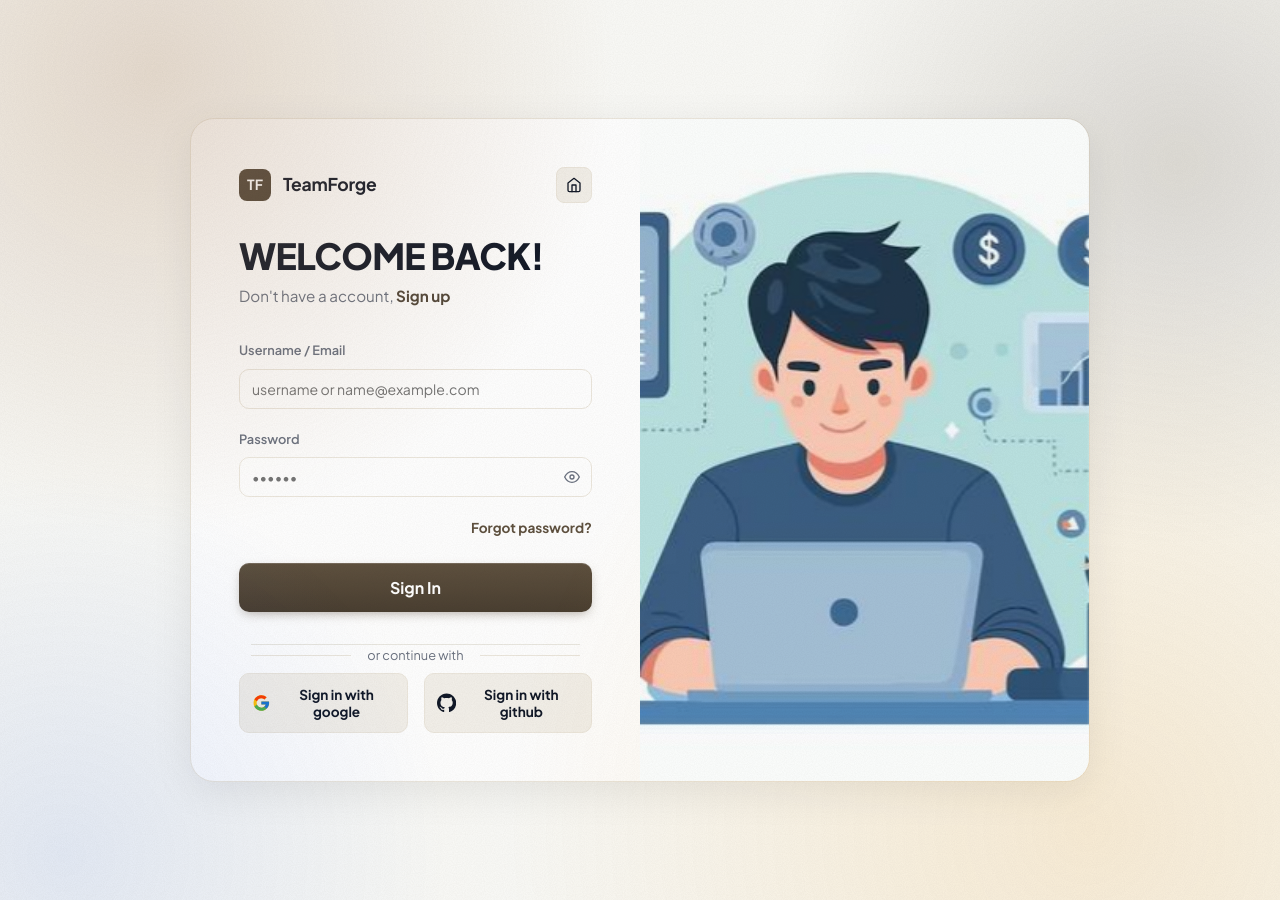
Test: STEP 3 FRONTEND: Suspended User Notification & Screen › 6. Wrong password or non-suspended error shows generic error, NOT suspended panel
Type "regular.user@teamforge.io" into the field with placeholder "username or name@example.com" at (416, 389), box 239,369 -> 592,409
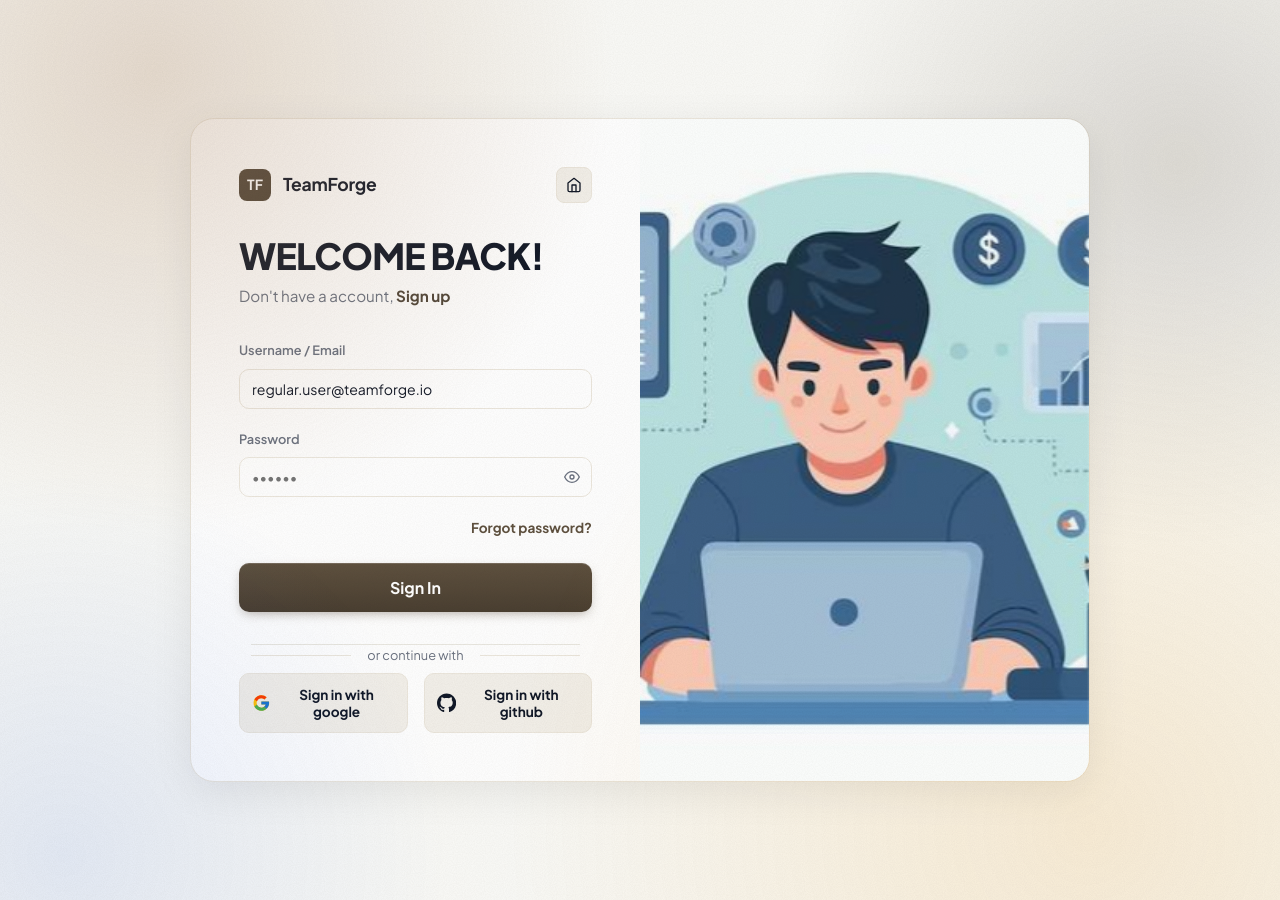
Type "wrongpassword" into the password field with placeholder "••••••" at (416, 477), box 239,457 -> 592,497
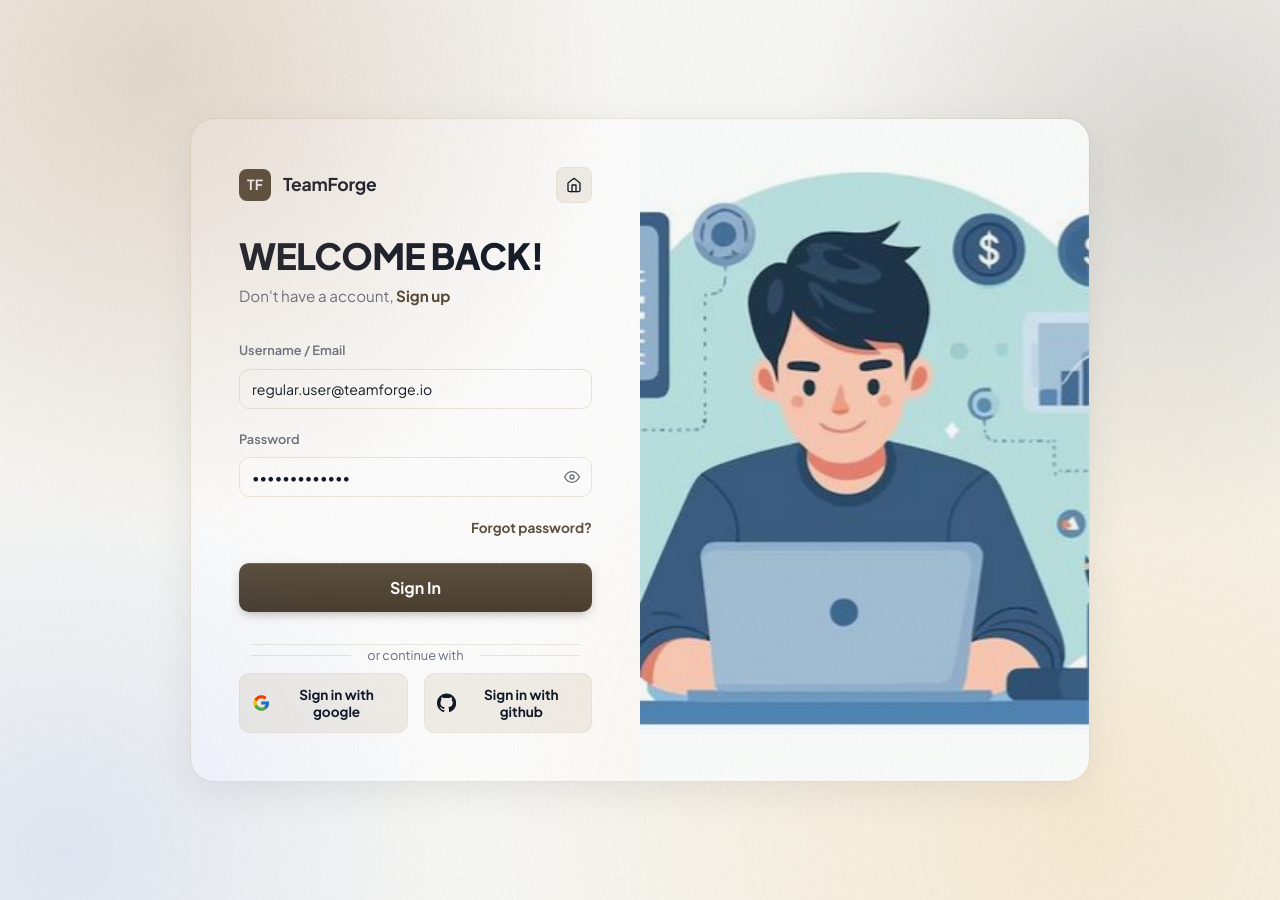
Click the button "Sign In" at (416, 588), box 239,563 -> 592,612
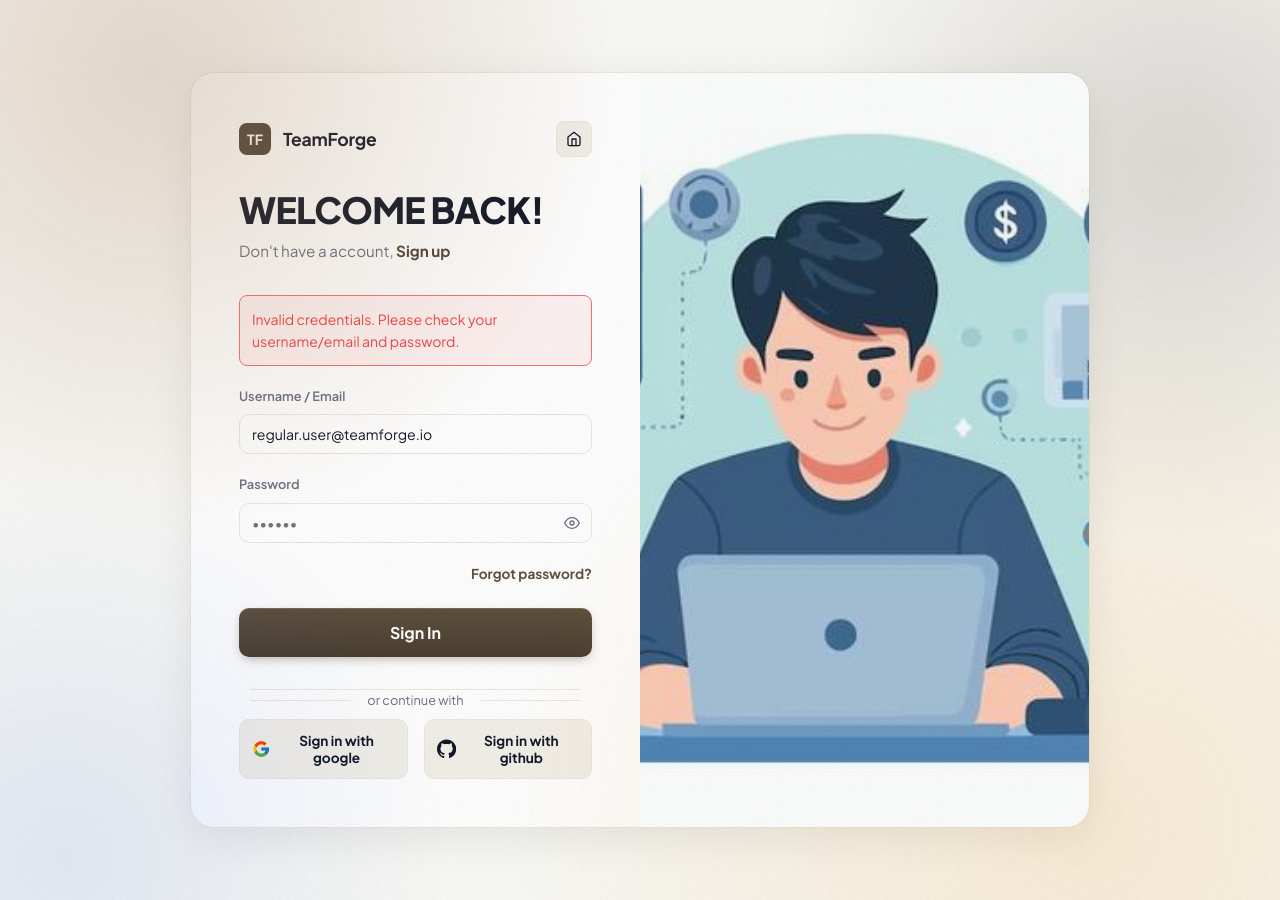
Result: the text "Invalid credentials" is shown at 252,310 -> 497,350
